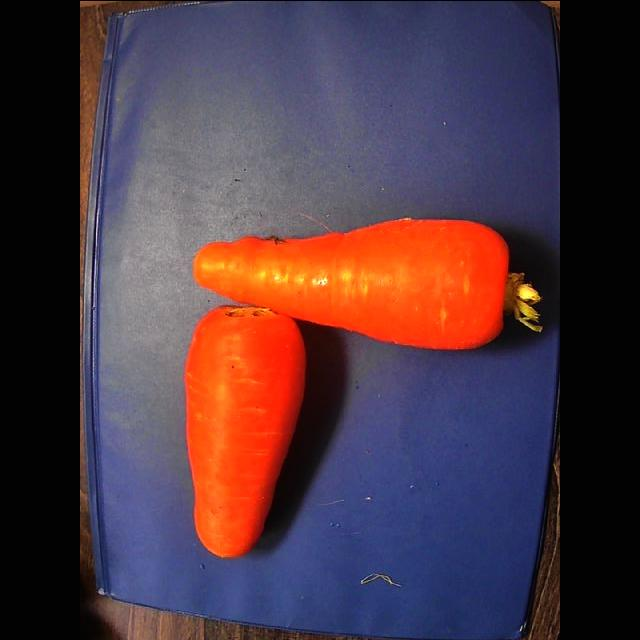zanahoria: (185, 305, 306, 557)
